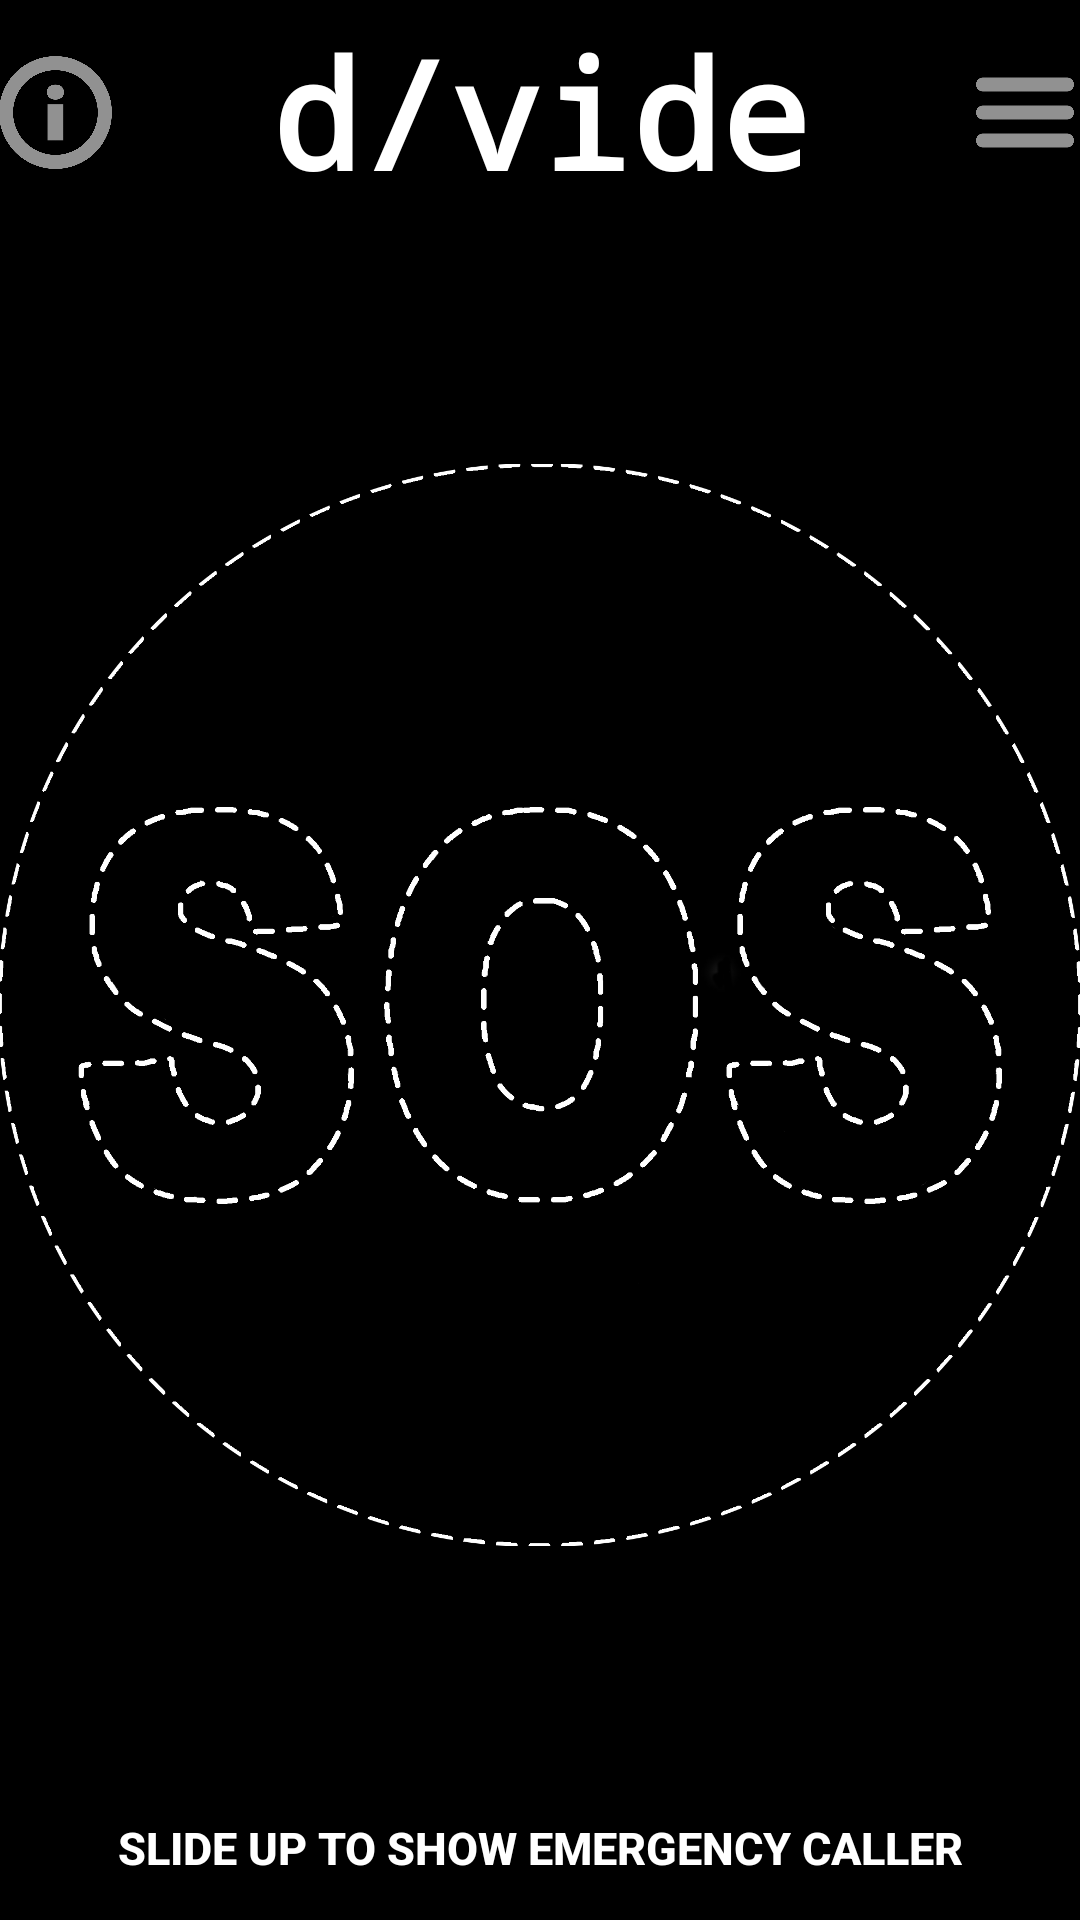

Point at icon controls on the screen. Image size 1080px x 1920px, points as point (x, y).
info: point (56, 112)
menu: point (1025, 112)
